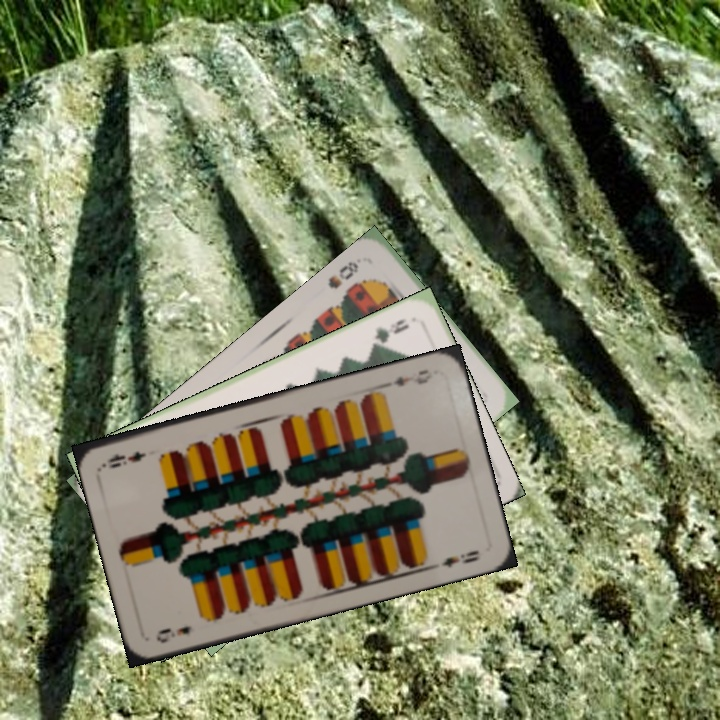E9: (381, 365, 435, 390), (152, 622, 194, 646)
G9: (366, 314, 412, 351)
S8: (323, 257, 361, 292)
